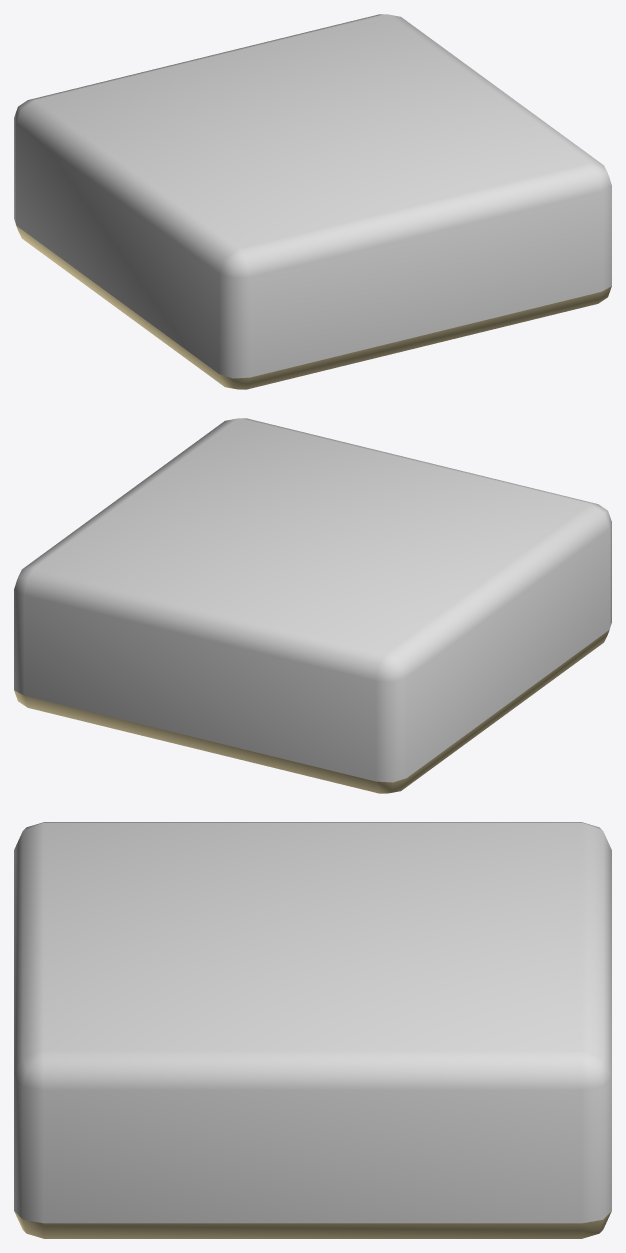
3 renders of one model, top to bottom at view 1: azimuth 30°, elevation 25°; view 2: azimuth 150°, elevation 25°; view 3: azimuth 270°, elevation 25°, orthographic. The views are drawn at different scales.
Visible parts, largest first — view 1: Cube, Cube.003; view 2: Cube, Cube.003; view 3: Cube, Cube.003.
Part boxes in pixels (bbox=[...]): Cube: bbox=[14, 14, 611, 378]; Cube.003: bbox=[16, 226, 611, 389]; Cube: bbox=[14, 418, 611, 782]; Cube.003: bbox=[14, 630, 609, 793]; Cube: bbox=[14, 822, 611, 1223]; Cube.003: bbox=[14, 1211, 611, 1238].
Size of the model in its own units: 200 by 69.11 by 200.
